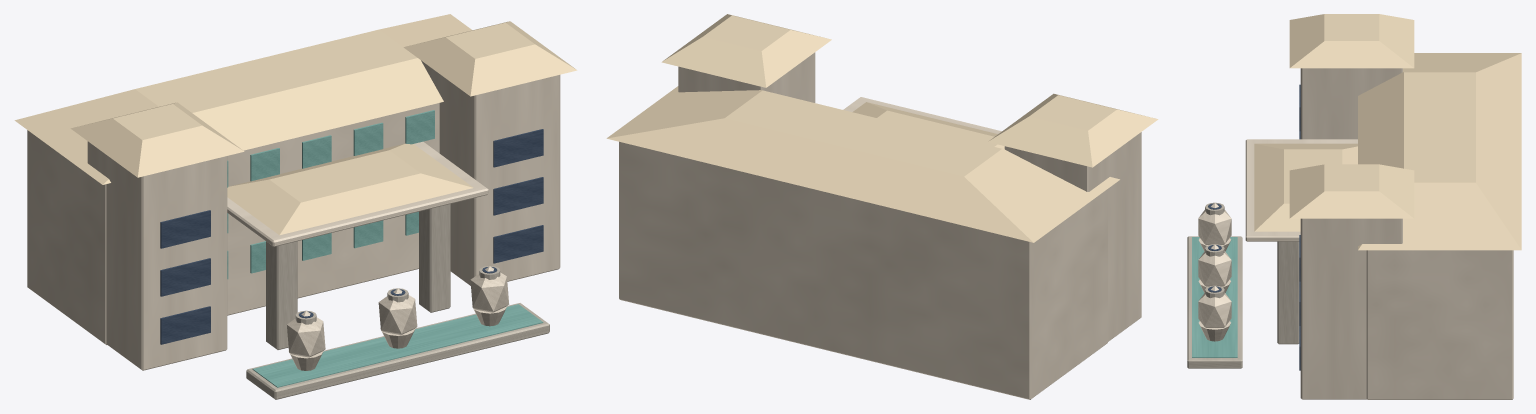
File: dusit-thani.glb
The picture shows the model from 3 angles, left to right: view 1: azimuth 30°, elevation 25°; view 2: azimuth 150°, elevation 25°; view 3: azimuth 270°, elevation 25°; orthographic projection. The views are drawn at different scales.
Parts seen in each view (by area): view 1: dusit-thani; view 2: dusit-thani; view 3: dusit-thani.
Boxes of the visible parts, <box> form: dusit-thani: <box>14,14,577,399</box>; dusit-thani: <box>606,14,1158,399</box>; dusit-thani: <box>1187,14,1521,399</box>.
Bounding box in the file's own units: 11.5 × 5.52 × 8.18.
1 material, 1 textured.
